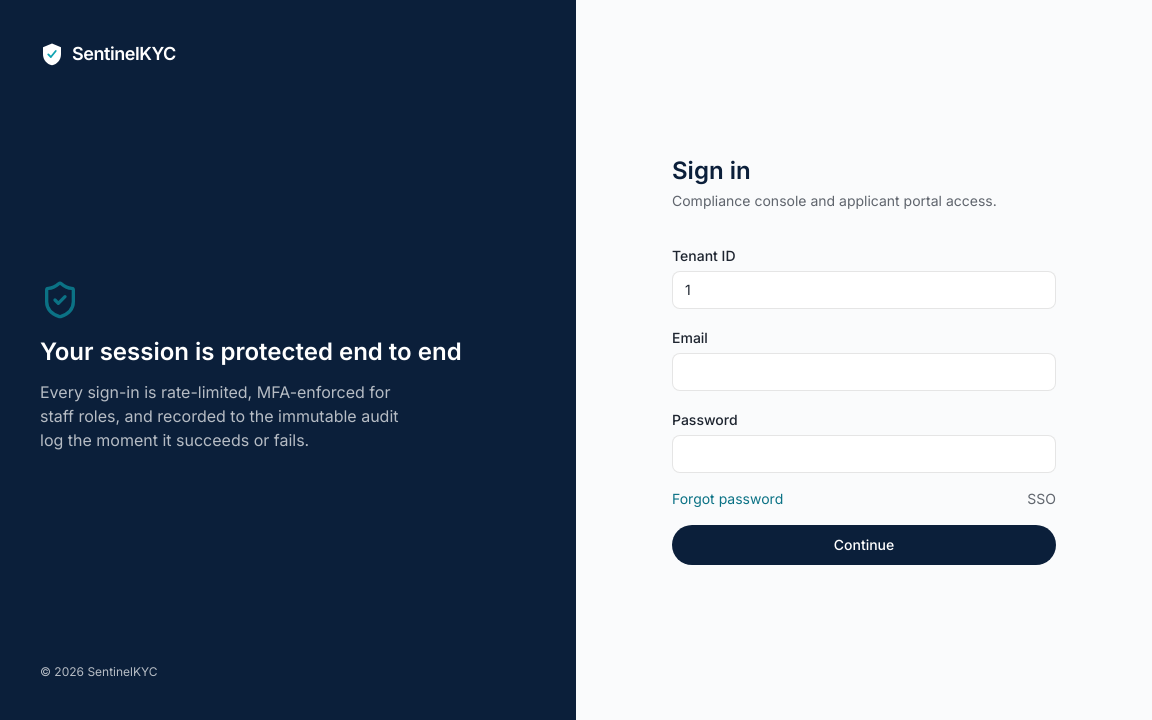
Scenario: Login › shows the server error message when login fails
Type "reviewer@example.com" into the field labelled "Email" at (864, 372), box [672, 353, 1056, 391]
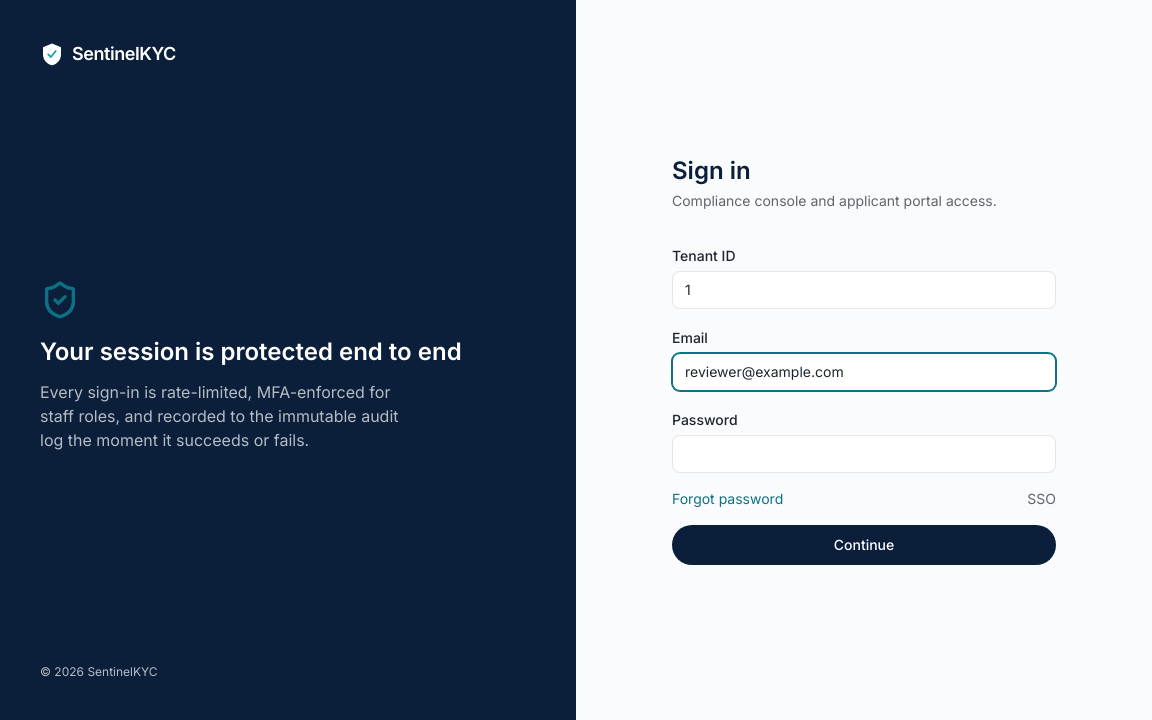
Type "wrong-password" into the password field labelled "Password" at (864, 454), box [672, 435, 1056, 473]
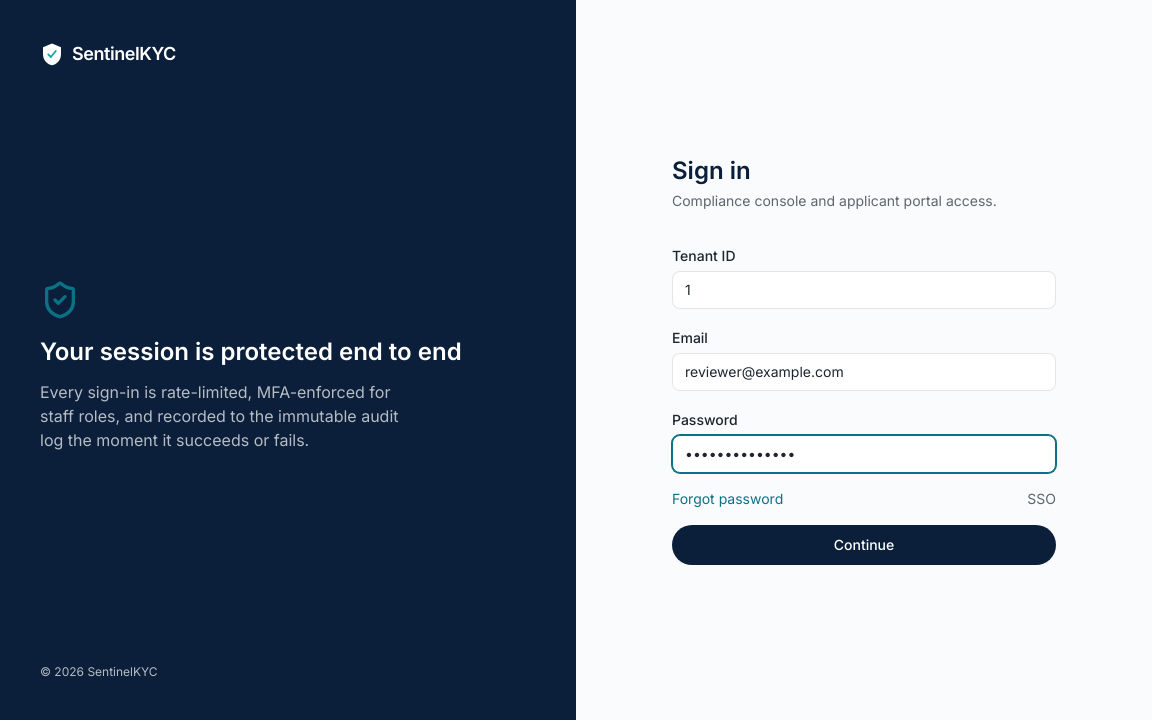
Click the button "Continue" at (864, 545), box [672, 525, 1056, 565]
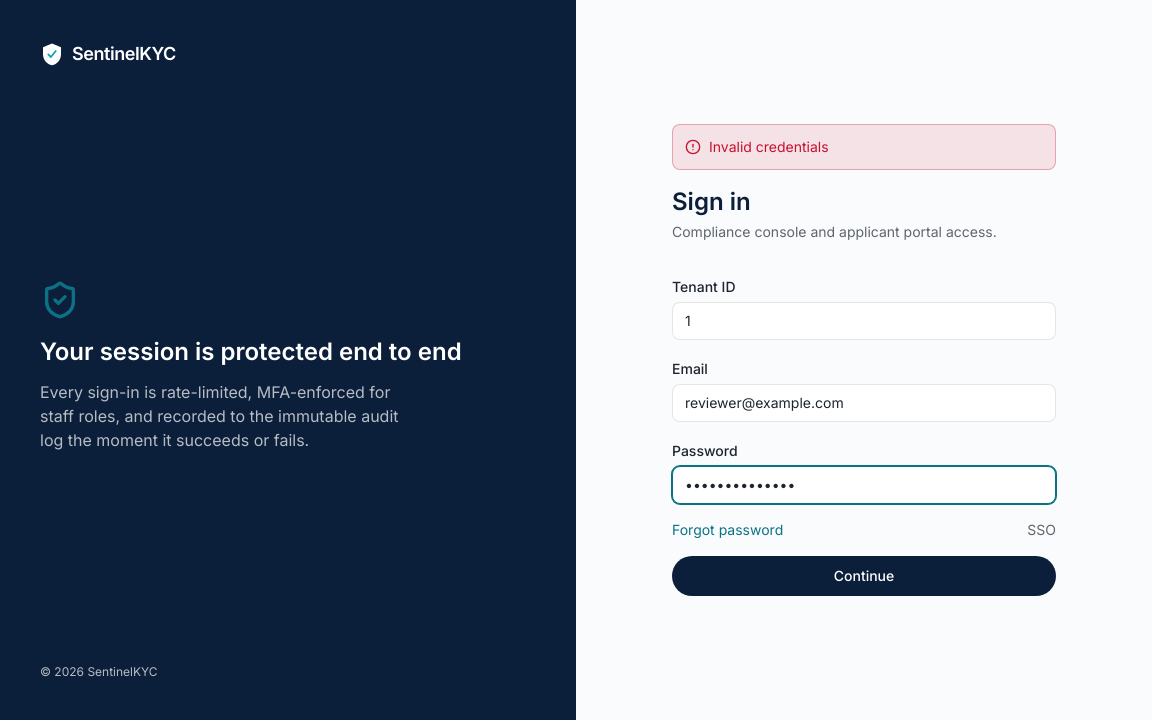
Expected: the text "Invalid credentials" is shown, [672, 124, 1056, 170]
